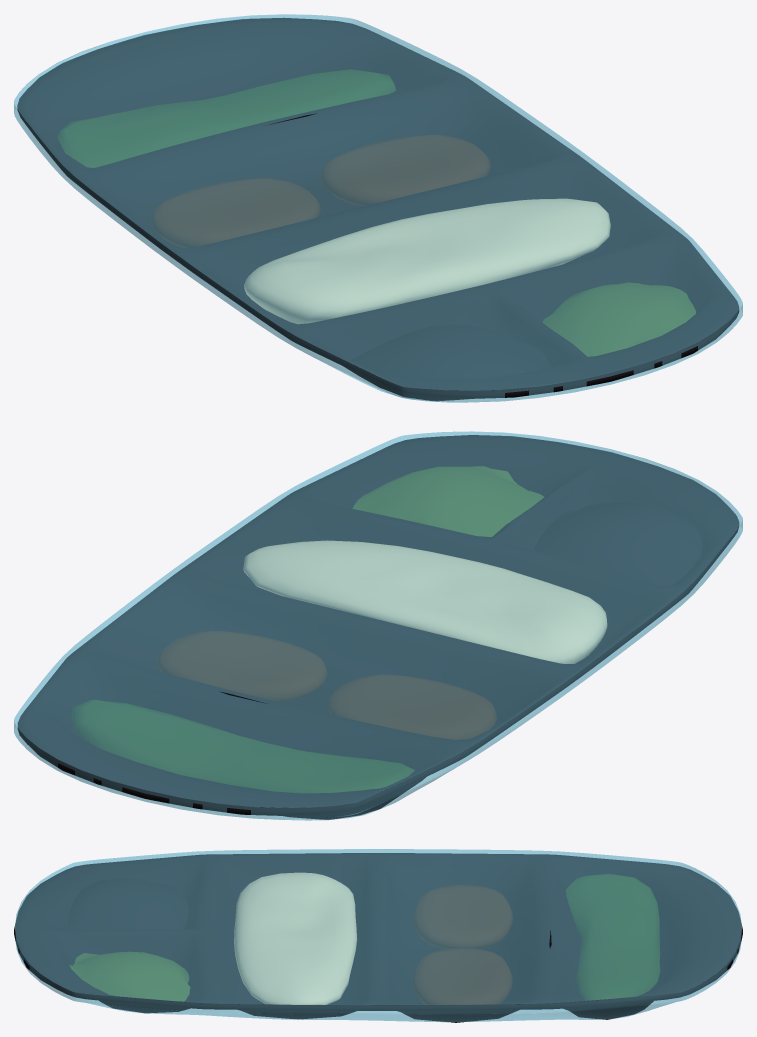
The model's file is TVdinner.fbx.
The picture shows the model from 3 angles, top to bottom: view 1: azimuth 30°, elevation 25°; view 2: azimuth 150°, elevation 25°; view 3: azimuth 270°, elevation 25°; orthographic projection. The views are drawn at different scales.
Parts seen in each view (by area): view 1: Cube, Plane; view 2: Cube, Plane; view 3: Cube, Plane.
Part boxes in pixels (bbox=[...]): Cube: bbox=[14, 14, 742, 402]; Plane: bbox=[17, 17, 739, 400]; Cube: bbox=[14, 431, 742, 820]; Plane: bbox=[17, 435, 739, 819]; Cube: bbox=[15, 849, 741, 1022]; Plane: bbox=[14, 853, 742, 1022].
Bounding box in the file's own units: 88.56 × 12.8 × 174.
